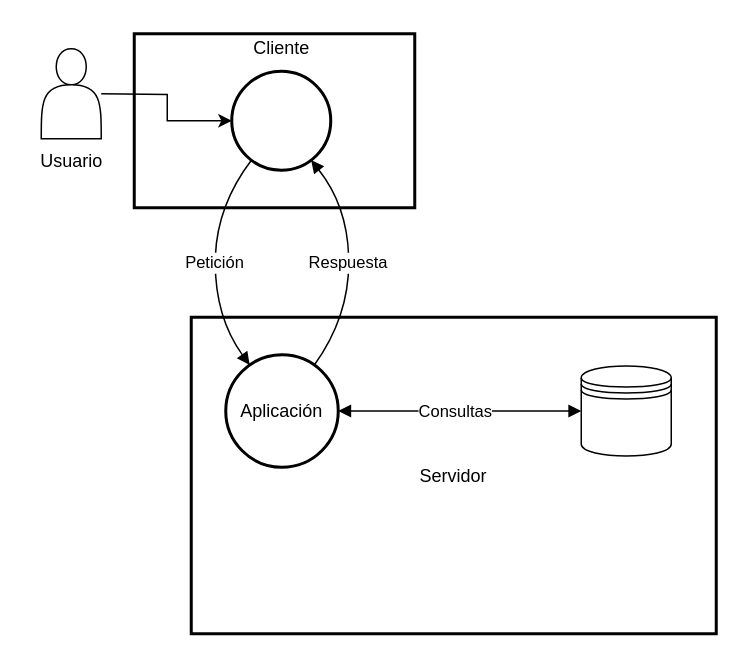
This 743x660 diagram has some shape labels left out. The shapes that lost their labels are listed below. From the top down, each one's centre as x and y in pixels, then its label:
the point at 281,120: Página web
the point at 625,410: Base de Datos
